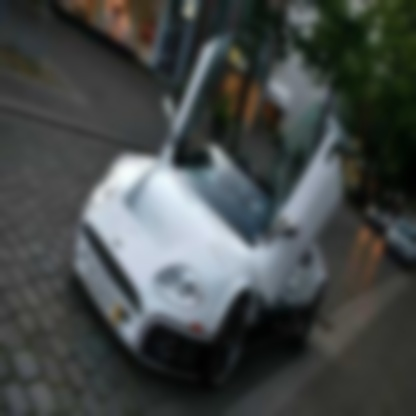Vehicle: (71, 29, 353, 399)
